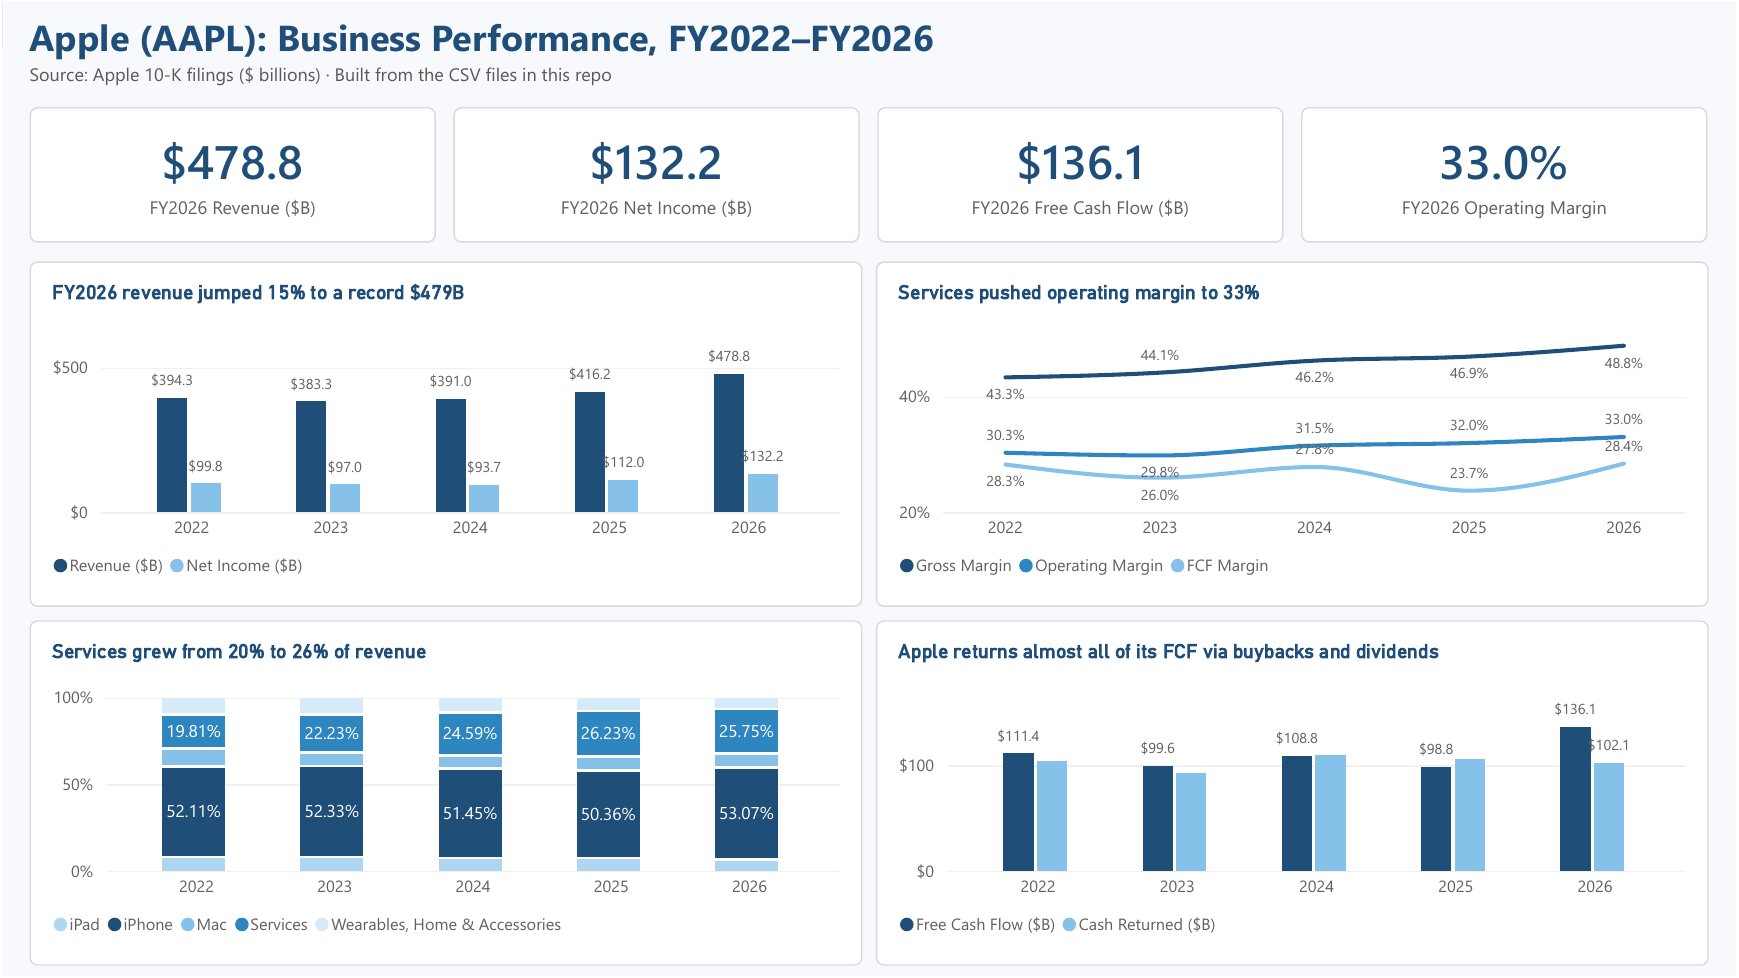

The page's visual inventory and layout, read from the dashboard file:
{"tool":"powerbi","page":{"name":"Business Performance","canvas":[1280,720],"ordinal":0},"visuals":[{"type":"textbox","box":[20,8,1000,62],"z":0},{"type":"card","fields":{"Values":["_Measures.FY2026 Revenue ($B)"]},"box":[20,78,300,100],"z":1000},{"type":"card","fields":{"Values":["_Measures.FY2026 Net Income ($B)"]},"box":[333,78,300,100],"z":2000},{"type":"card","fields":{"Values":["_Measures.FY2026 Free Cash Flow ($B)"]},"box":[646,78,300,100],"z":3000},{"type":"card","fields":{"Values":["_Measures.FY2026 Operating Margin"]},"box":[959,78,300,100],"z":4000},{"type":"clusteredColumnChart","title":"FY2026 revenue jumped 15% to a record $479B","fields":{"Category":["income_statement.fiscal_year"],"Y":["_Measures.Revenue ($B)","_Measures.Net Income ($B)"]},"box":[20,192,615,255],"z":5000},{"type":"lineChart","title":"Services pushed operating margin to 33%","fields":{"Category":["income_statement.fiscal_year"],"Y":["_Measures.Gross Margin","_Measures.Operating Margin","_Measures.FCF Margin"]},"box":[645,192,615,255],"z":6000},{"type":"hundredPercentStackedColumnChart","title":"Services grew from 20% to 26% of revenue","fields":{"Category":["income_statement.fiscal_year"],"Series":["revenue_by_product.product"],"Y":["Sum(revenue_by_product.revenue)"]},"box":[20,457,615,255],"z":7000},{"type":"clusteredColumnChart","title":"Apple returns almost all of its FCF via buybacks and dividends","fields":{"Category":["income_statement.fiscal_year"],"Y":["_Measures.Free Cash Flow ($B)","_Measures.Cash Returned ($B)"]},"box":[645,457,615,255],"z":8000}]}

Visuals, with their boxes in screenshot pixels (x1, y1, x2, y2), scaled from the page's 1280x720 canvas onto the 1739x978 screenshot:
textbox: 27, 11, 1386, 95
card - _Measures.FY2026 Revenue ($B): 27, 106, 435, 242
card - _Measures.FY2026 Net Income ($B): 452, 106, 860, 242
card - _Measures.FY2026 Free Cash Flow ($B): 878, 106, 1285, 242
card - _Measures.FY2026 Operating Margin: 1303, 106, 1710, 242
"FY2026 revenue jumped 15% to a record $479B" clusteredColumnChart: 27, 261, 863, 607
"Services pushed operating margin to 33%" lineChart: 876, 261, 1712, 607
"Services grew from 20% to 26% of revenue" hundredPercentStackedColumnChart: 27, 621, 863, 967
"Apple returns almost all of its FCF via buybacks and dividends" clusteredColumnChart: 876, 621, 1712, 967
